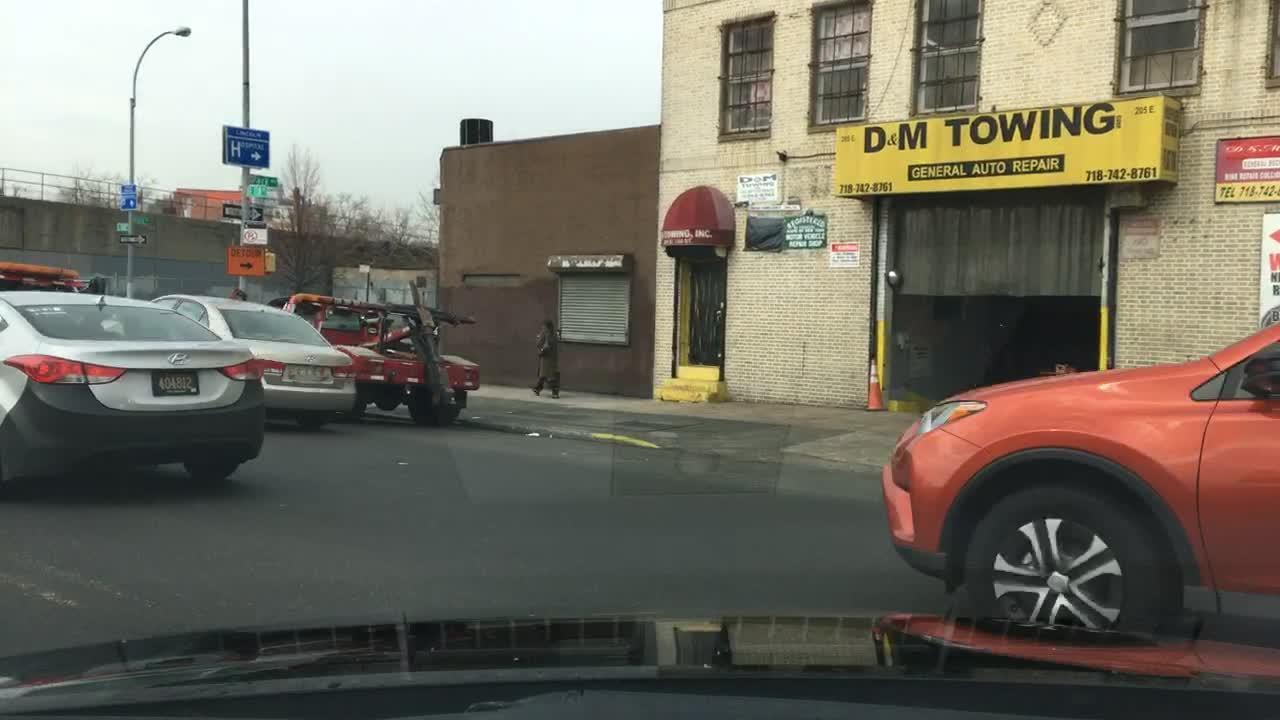Hyundai: (161, 345, 194, 369)
